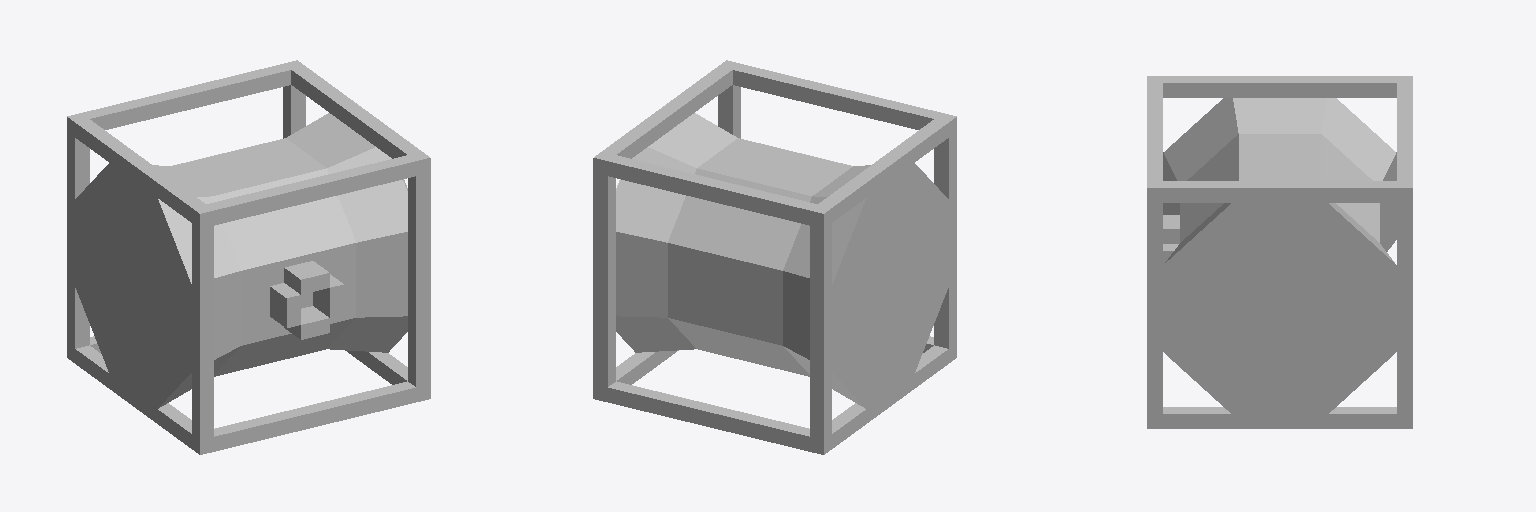
File: vortexTube.obj
The picture shows the model from 3 angles: view 1: azimuth 30°, elevation 25°; view 2: azimuth 150°, elevation 25°; view 3: azimuth 270°, elevation 25°; orthographic projection.
Visible parts, largest first — view 1: Cold, Center, Side_1, Hot_1, Sice_2, Cross_1, Cross_3, Cross_2, Pipe; view 2: Cold, Center, Side_1, Hot_1, Sice_2, Cross_2, Cross_4, Cross_1; view 3: Hot_2, Hot_1, Sice_2, Cold, Center, Side_1, Cross_1, Cross_2, Pipe.
Part boxes in pixels (left/top/right/bottom): Cold: left=75, top=163, right=240, bottom=408; Center: left=171, top=138, right=355, bottom=376; Side_1: left=67, top=113, right=213, bottom=454; Hot_1: left=286, top=113, right=407, bottom=352; Sice_2: left=283, top=60, right=430, bottom=401; Cross_1: left=206, top=155, right=415, bottom=225; Cross_3: left=214, top=381, right=415, bottom=451; Cross_2: left=82, top=64, right=290, bottom=129; Pipe: left=270, top=261, right=343, bottom=339; Cold: left=783, top=163, right=948, bottom=408; Center: left=668, top=138, right=852, bottom=376; Side_1: left=810, top=113, right=956, bottom=454; Hot_1: left=616, top=113, right=737, bottom=352; Sice_2: left=593, top=60, right=740, bottom=401; Cross_2: left=608, top=155, right=817, bottom=225; Cross_4: left=608, top=381, right=809, bottom=451; Cross_1: left=733, top=64, right=941, bottom=129; Hot_2: left=1193, top=237, right=1366, bottom=394; Hot_1: left=1163, top=203, right=1396, bottom=413; Sice_2: left=1147, top=181, right=1412, bottom=428; Cold: left=1163, top=98, right=1396, bottom=251; Center: left=1180, top=134, right=1379, bottom=242; Side_1: left=1147, top=76, right=1412, bottom=97; Cross_1: left=1147, top=83, right=1162, bottom=180; Cross_2: left=1397, top=83, right=1412, bottom=180; Pipe: left=1163, top=215, right=1179, bottom=264.
Size of the model in its own units: 669 by 630 by 630.